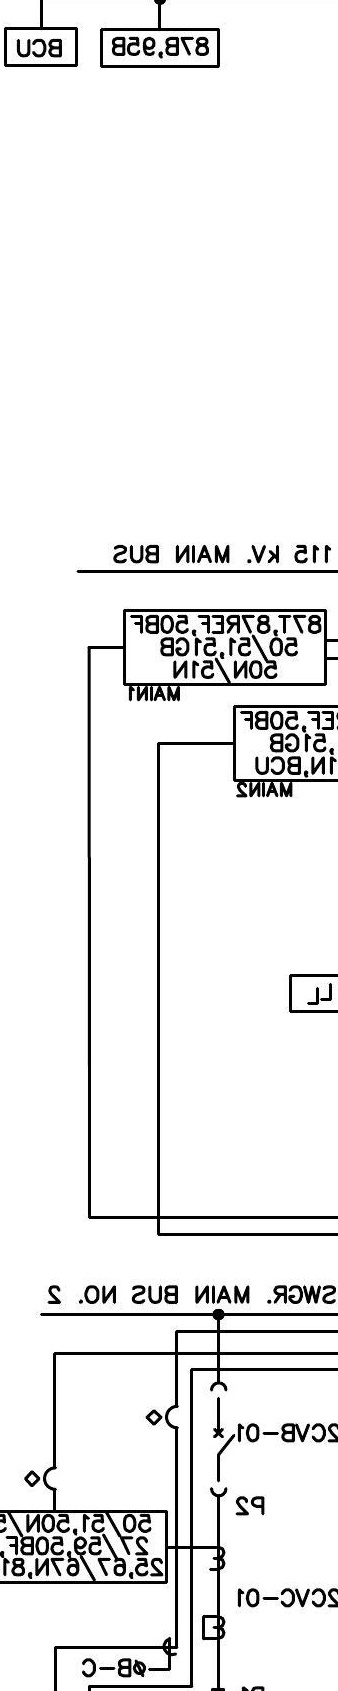22_breaker: (209, 1380, 235, 1498)
BCU: (3, 26, 79, 68)
